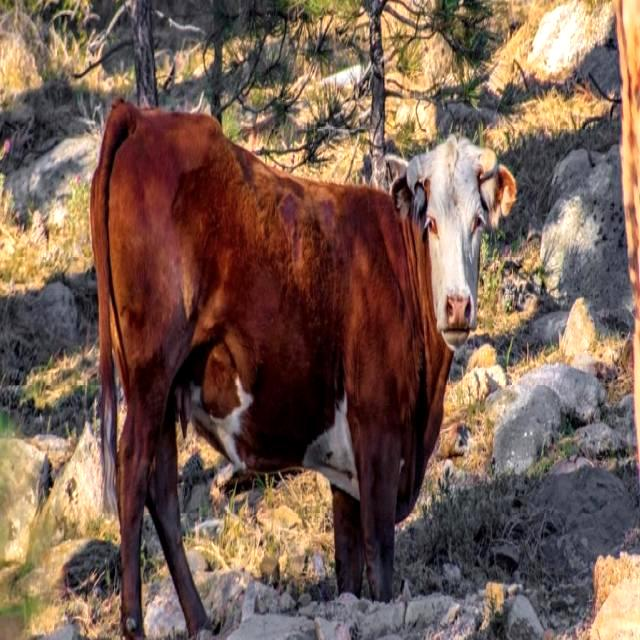COW: (90, 101, 515, 640)
